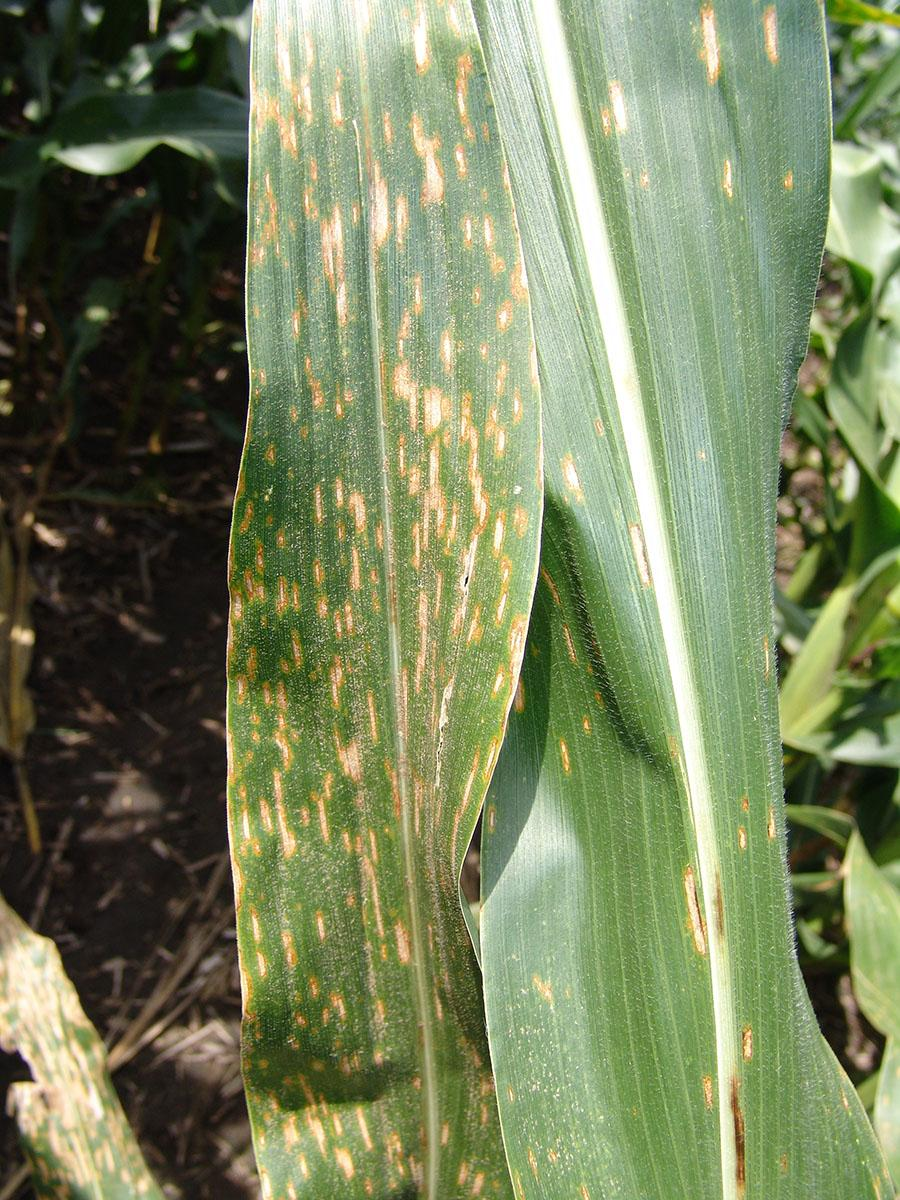Corn leaf blight: (513, 14, 823, 1196), (233, 4, 538, 1200)
